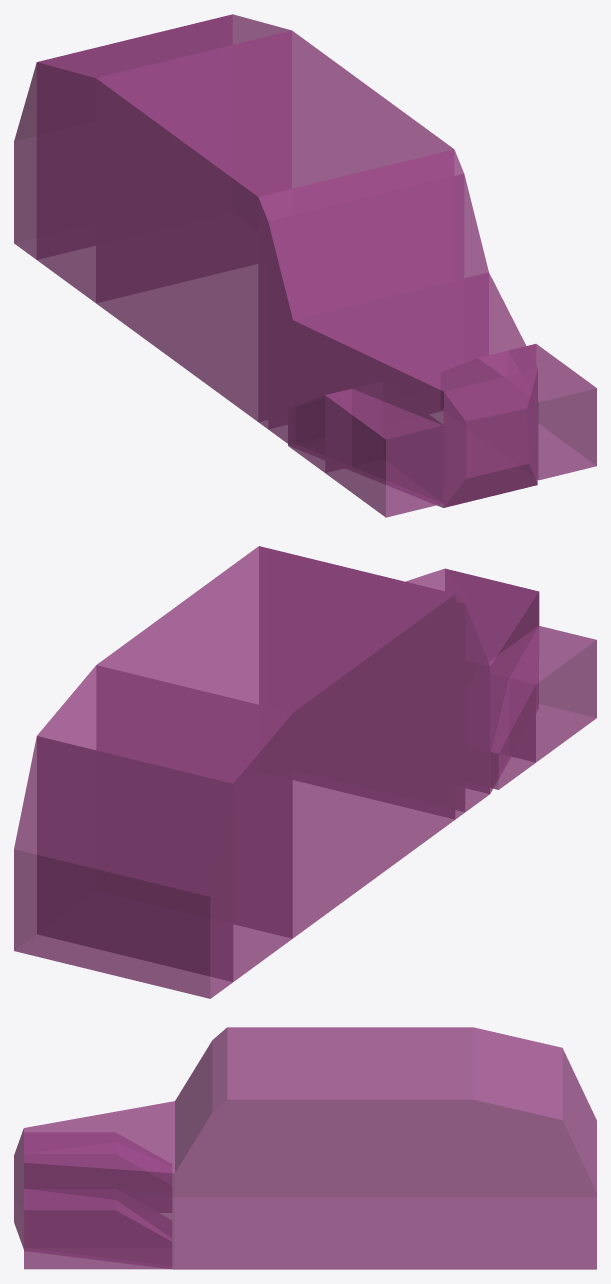
Rendered from SM_Veh_Ambulance_01_Collision.fbx.
The picture shows the model from 3 angles, top to bottom: view 1: azimuth 30°, elevation 25°; view 2: azimuth 150°, elevation 25°; view 3: azimuth 270°, elevation 25°; orthographic projection. The views are drawn at different scales.
Visible parts, largest first — view 1: SM_Veh_Ambulance_01_Collision; view 2: SM_Veh_Ambulance_01_Collision; view 3: SM_Veh_Ambulance_01_Collision.
Part boxes in pixels (bbox=[...]): SM_Veh_Ambulance_01_Collision: bbox=[14, 14, 596, 517]; SM_Veh_Ambulance_01_Collision: bbox=[14, 546, 596, 998]; SM_Veh_Ambulance_01_Collision: bbox=[14, 1027, 596, 1269].
Size of the model in its own units: 198 by 202 by 628.
